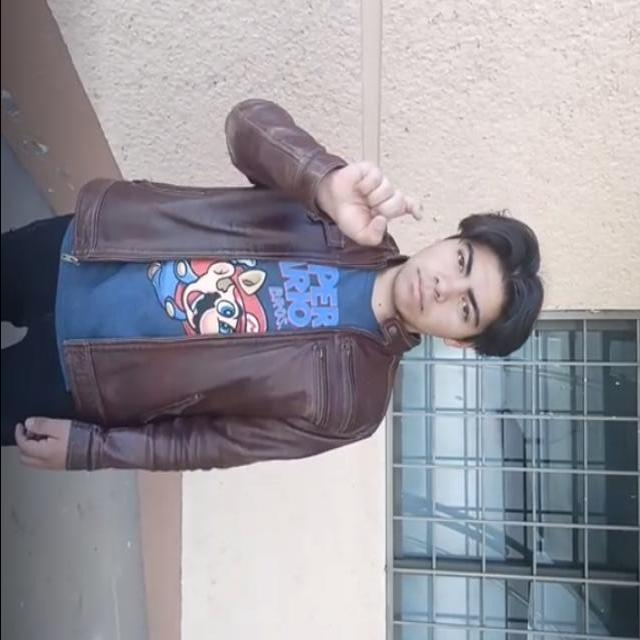X: (312, 139, 426, 267)
